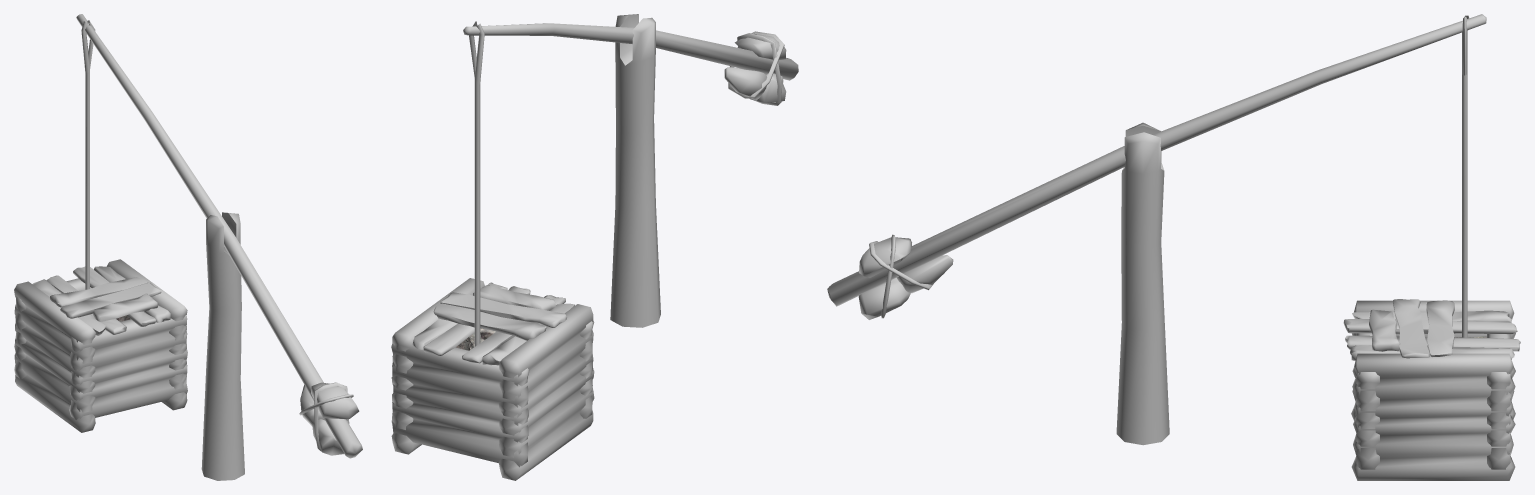
Rendered from Well.fbx.
The picture shows the model from 3 angles, left to right: view 1: azimuth 30°, elevation 25°; view 2: azimuth 150°, elevation 25°; view 3: azimuth 270°, elevation 25°; orthographic projection. The views are drawn at different scales.
Parts seen in each view (by area): view 1: Wood, General; view 2: Wood, General; view 3: Wood, General.
Boxes of the visible parts, x1,y1,x2,y2 form: Wood: (14, 14, 362, 480); General: (81, 20, 359, 455); Wood: (391, 14, 798, 480); General: (469, 21, 786, 346); Wood: (827, 14, 1520, 480); General: (858, 15, 1468, 337).
Bounding box in the file's own units: 211 × 635 × 914.
